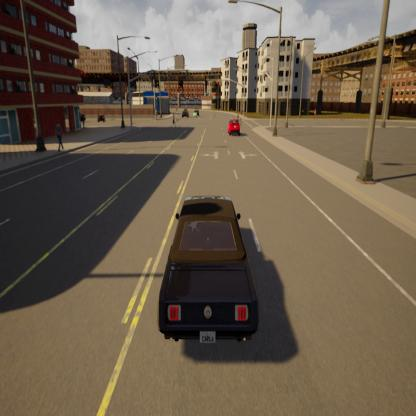Cars: (158, 193, 258, 350), (229, 116, 240, 136)
Pedestrian: (53, 118, 64, 154), (172, 106, 178, 130)
